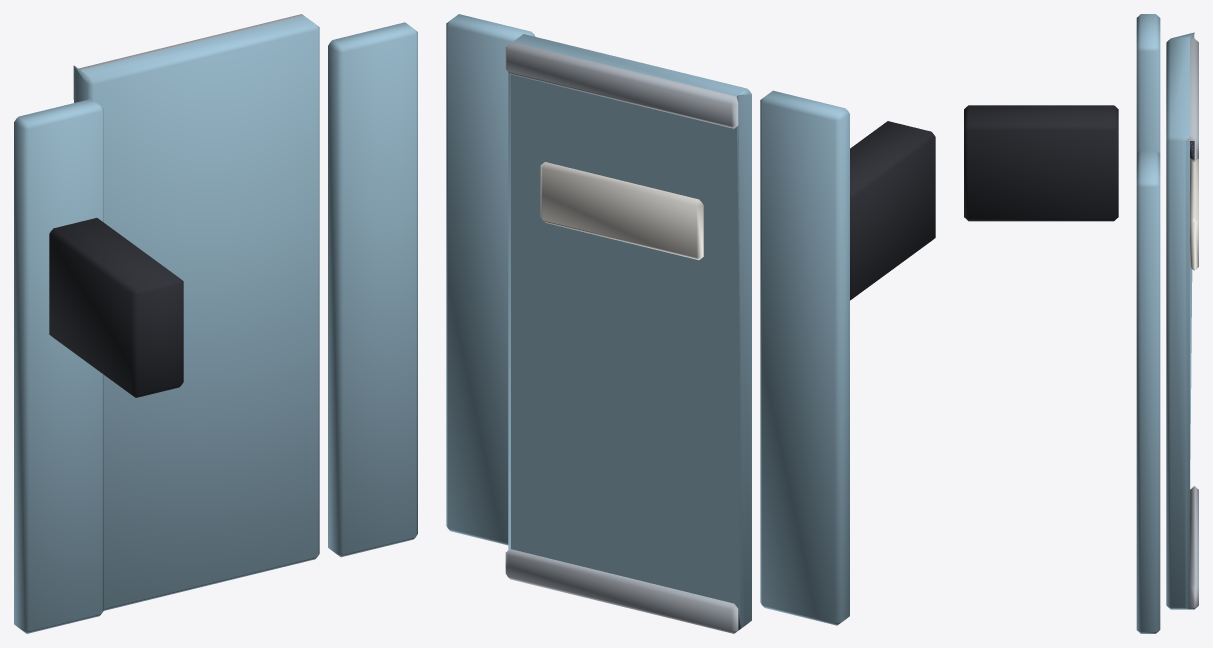
File: H_RiotShield.fbx
3 views of the same model, side by side, from view 1: azimuth 30°, elevation 25°; view 2: azimuth 150°, elevation 25°; view 3: azimuth 270°, elevation 25° (orthographic). The views are drawn at different scales.
Parts seen in each view (by area): view 1: H_RiotShield; view 2: H_RiotShield; view 3: H_RiotShield.
Boxes of the visible parts, x1,y1,x2,y2 form: H_RiotShield: [14, 14, 417, 633]; H_RiotShield: [446, 14, 935, 633]; H_RiotShield: [964, 14, 1198, 633].
Size of the model in its own units: 0.68 by 0.8875 by 0.395.
Materials: 1 (1 with a texture image).
